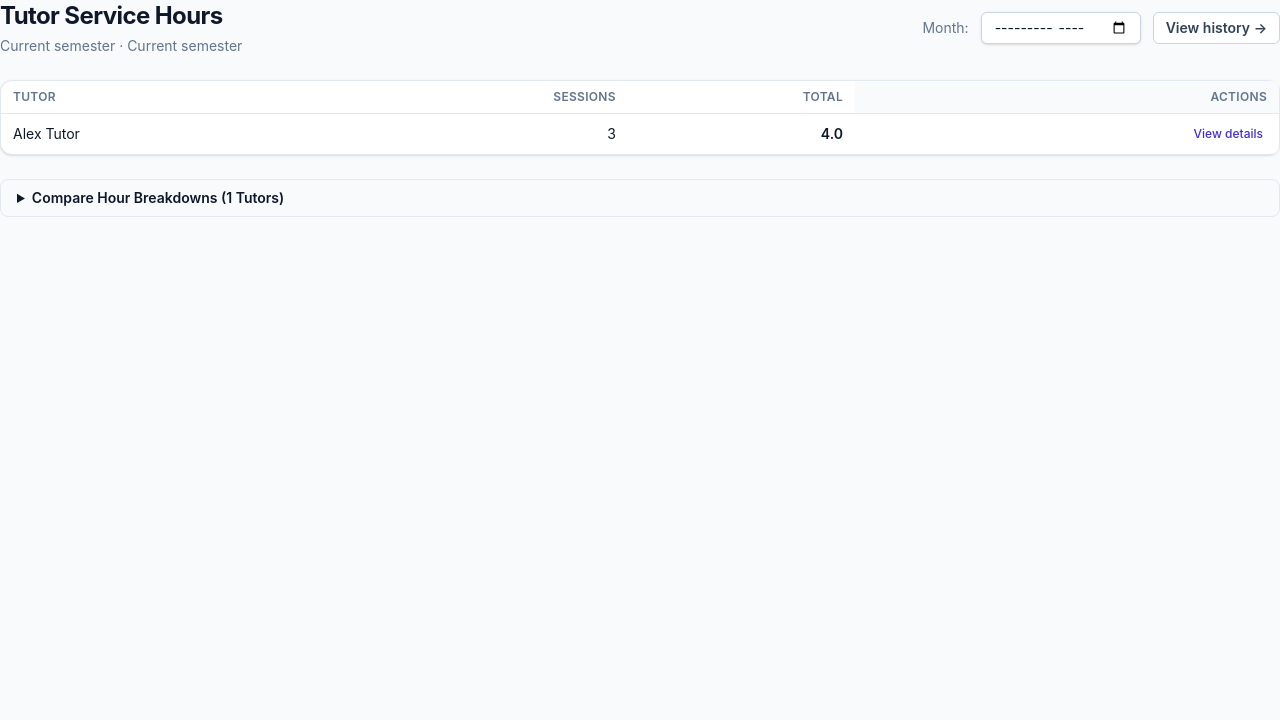
Test case: keeps service-hour totals brief and opens the full calculation through Details
The width and height of the screenshot is (1280, 720).
Expected: the number of column headings is 4, [1, 81, 322, 114]; [322, 81, 628, 114]; [628, 81, 855, 114]; [855, 81, 1279, 114]
Expected: the text "Penalties" is not shown
Click the button with aria-label "View details:": (1228, 134) [1190, 122, 1267, 146]
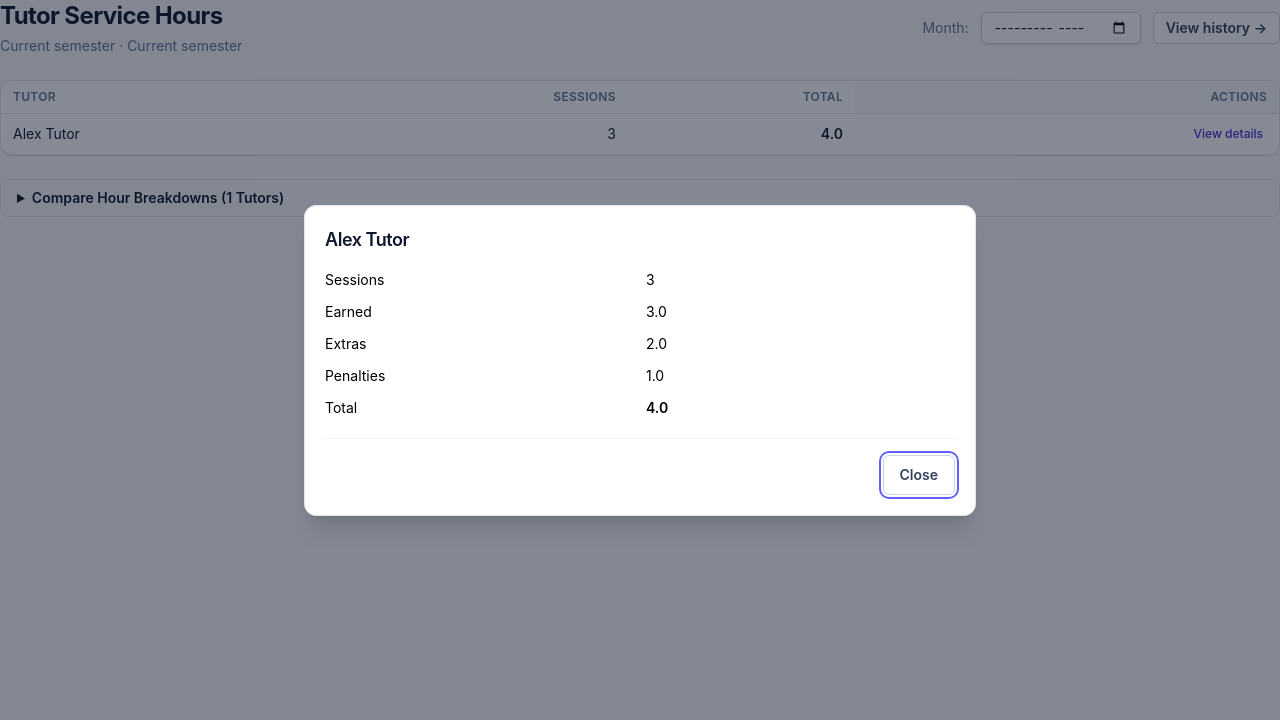
Expected: the text "Penalties" is shown, [325, 366, 385, 384]
Expected: the text "4.0" is shown, [646, 398, 668, 416]
